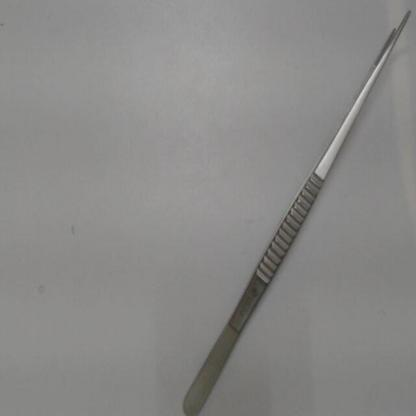DeBakey Dissector: (175, 6, 413, 415)
